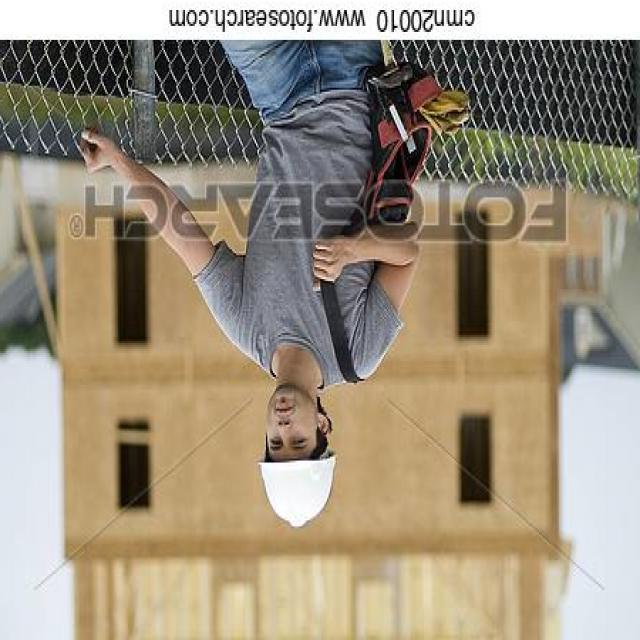safetyhelmet: (249, 371, 346, 531)
